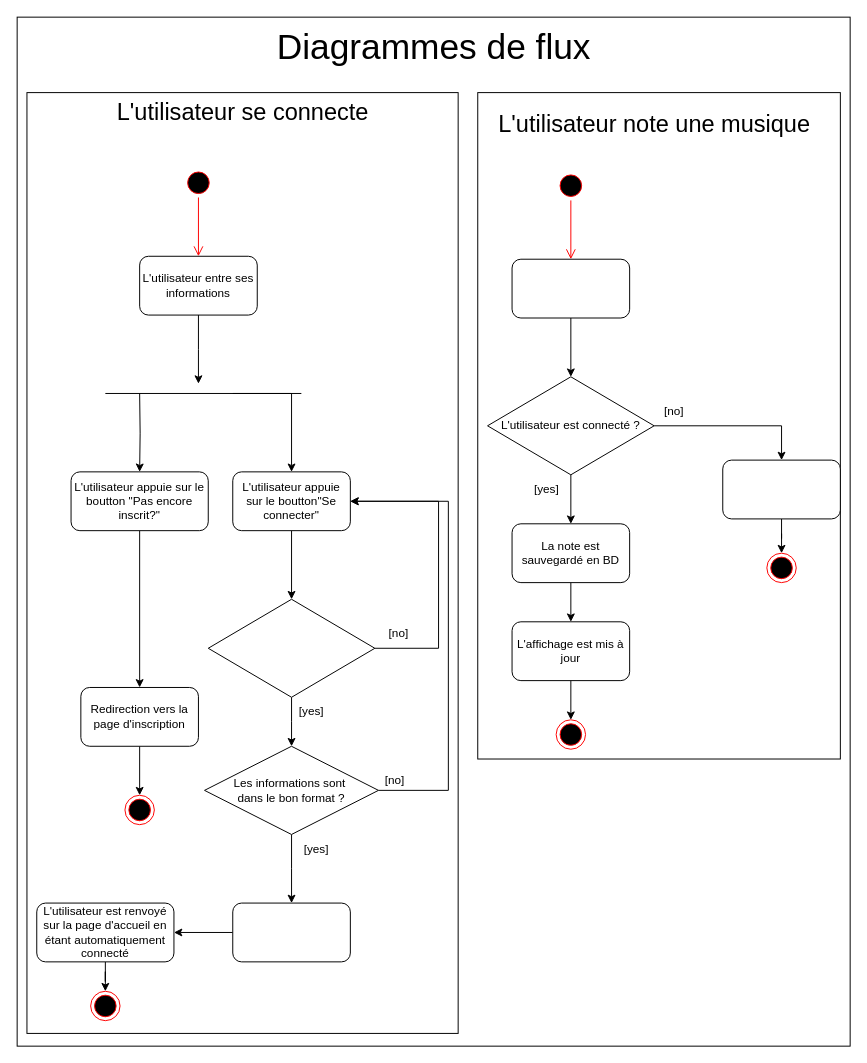
The diagram is 867 pixels wide and 1063 high, and some of its shapes have lost their labels. The shapes that lost their labels are listed below. From the top down, each one's box as (x1, y1, x2, y2) in pixels, then its label:
(511, 258, 630, 318): L'utilisateur appuie sur une des cinq étoiles disponible
(722, 459, 840, 519): L'utilisateur est envoyé sur la page de connection
(207, 598, 375, 697): Les mots de passe sont équivalents?
(232, 902, 350, 962): Le compte est créer
